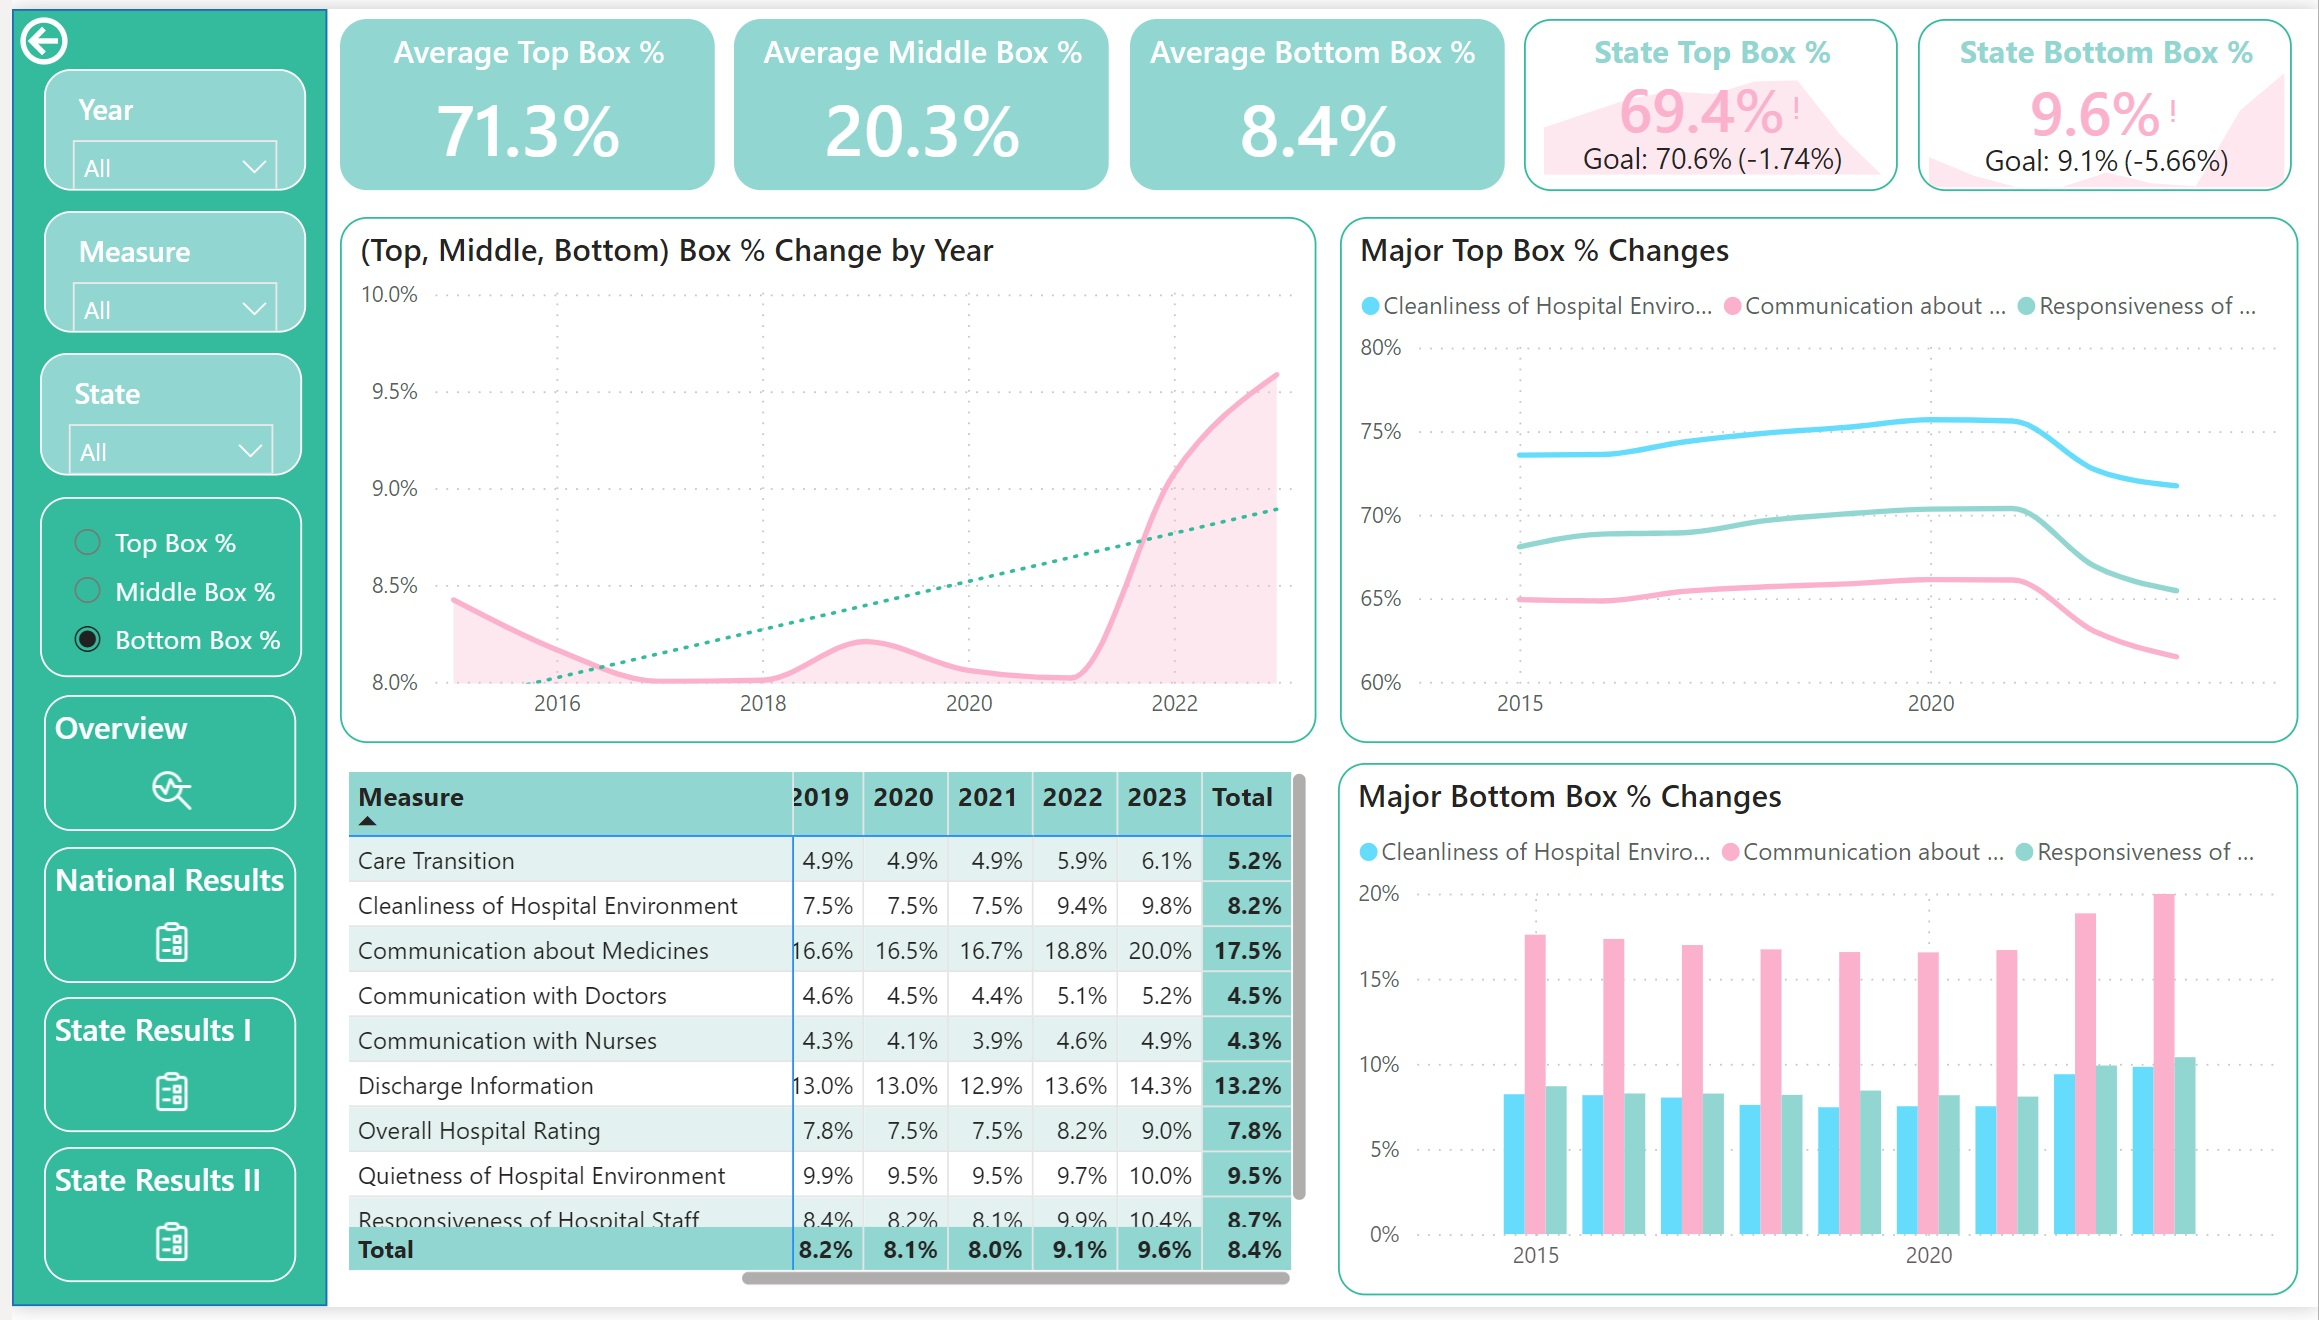

This screenshot's page, from the dashboard's own definition file:
{"tool":"powerbi","page":{"name":"State Results I","canvas":[1280,720],"ordinal":2},"visuals":[{"type":"shape","box":[0,0,175,720],"z":0},{"type":"card","title":"Average Top Box %","fields":{"Values":["Measure Table.State Top Box %"]},"box":[182.1,6,208,95],"z":1000},{"type":"card","title":"Average Middle Box %","fields":{"Values":["Measure Table.State Middle Box %"]},"box":[401.1,6,208,95],"z":2000},{"type":"actionButton","title":"Overview","box":[17.8,380.8,140,75.5],"z":2000,"group":"g1"},{"type":"card","title":"Average Bottom Box %","fields":{"Values":["Measure Table.State Bottom Box %"]},"box":[620.2,6,208,95],"z":3000},{"type":"actionButton","title":"National Results","box":[17.8,465.2,140,75.5],"z":3000,"group":"g1"},{"type":"slicer","fields":{"Values":["Reports.Year"]},"box":[17.8,33.3,145.4,67.7],"z":4000},{"type":"actionButton","title":"State Results I","box":[17.8,548.4,140,75],"z":4000,"group":"g1"},{"type":"slicer","fields":{"Values":["Survey Measures.Measure"]},"box":[17.8,112.4,145.4,67.7],"z":5000},{"type":"actionButton","title":"State Results II","box":[17.8,631.7,140,75],"z":5000,"group":"g1"},{"type":"kpi","title":"State Top Box %","fields":{"TrendLine":["Reports.Year"],"Indicator":["Measure Table.State Top Box %"],"Goal":["Measure Table.State Top Box Prev"]},"box":[839.3,6,207.6,95.5],"z":6000},{"type":"kpi","title":"State Bottom Box %","fields":{"TrendLine":["Reports.Year"],"Indicator":["Measure Table.State Bottom Box %"],"Goal":["Measure Table.State Bottom Box Prev"]},"box":[1058,6,207.6,95.5],"z":7000},{"type":"slicer","fields":{"Values":["States.State Name"]},"box":[15.5,191.5,145.4,68],"z":8000},{"type":"areaChart","title":"(Top, Middle, Bottom) Box % Change by  Year","fields":{"Y":["Measure Table.State Bottom Box %"],"Category":["Reports.Year"]},"box":[182.1,115.5,541.8,292],"z":9000},{"type":"slicer","fields":{"Values":["BOX Selector (State).BOX Selector (State)"]},"box":[15.5,270.9,145.4,100],"z":10000},{"type":"pivotTable","fields":{"Values":["Measure Table.State Bottom Box %"],"Rows":["Survey Measures.Measure"],"Columns":["Reports.Year"]},"box":[182.1,418.5,541.8,295.3],"z":11000},{"type":"lineChart","title":"Major Top Box % Changes","fields":{"Category":["Reports.Year"],"Y":["Measure Table.Cleanliness of Hospital Environment TB (State)","Measure Table.Communication about Medicines TB (State)","Measure Table.Responsiveness of Hospital Staff TB (State)"]},"box":[737.1,115.5,531.8,292],"z":12000},{"type":"clusteredColumnChart","title":"Major Bottom Box % Changes","fields":{"Category":["Reports.Year"],"Y":["Measure Table.Cleanliness of Hospital Environment BB (State)","Measure Table.Communication about Medicines BB (State)","Measure Table.Responsiveness of Hospital Staff BB (State)"]},"box":[736,418.5,532.9,295.3],"z":13000},{"type":"group","id":"g1","title":"Group 1","box":[17.8,380.8,140,325.9],"z":14000},{"type":"actionButton","box":[0,0,40,35.5],"z":15000}]}

Visuals, with their boxes in screenshot pixels (x1, y1, x2, y2), scaled from the page's 1280x720 canvas onto the 2319x1320 screenshot:
shape: <bbox>0, 0, 317, 1319</bbox>
"Average Top Box %" card: <bbox>330, 11, 707, 185</bbox>
"Average Middle Box %" card: <bbox>727, 11, 1104, 185</bbox>
"Overview" actionButton: <bbox>32, 698, 286, 837</bbox>
"Average Bottom Box %" card: <bbox>1124, 11, 1500, 185</bbox>
"National Results" actionButton: <bbox>32, 853, 286, 991</bbox>
slicer - Reports.Year: <bbox>32, 61, 296, 185</bbox>
"State Results I" actionButton: <bbox>32, 1005, 286, 1143</bbox>
slicer - Survey Measures.Measure: <bbox>32, 206, 296, 330</bbox>
"State Results II" actionButton: <bbox>32, 1158, 286, 1296</bbox>
"State Top Box %" kpi: <bbox>1521, 11, 1897, 186</bbox>
"State Bottom Box %" kpi: <bbox>1917, 11, 2293, 186</bbox>
slicer - States.State Name: <bbox>28, 351, 292, 476</bbox>
"(Top, Middle, Bottom) Box % Change by  Year" areaChart: <bbox>330, 212, 1312, 747</bbox>
slicer - BOX Selector (State).BOX Selector (State): <bbox>28, 497, 292, 680</bbox>
pivotTable - Measure Table.State Bottom Box % x Survey Measures.Measure: <bbox>330, 767, 1312, 1309</bbox>
"Major Top Box % Changes" lineChart: <bbox>1335, 212, 2299, 747</bbox>
"Major Bottom Box % Changes" clusteredColumnChart: <bbox>1333, 767, 2299, 1309</bbox>
"Group 1" group: <bbox>32, 698, 286, 1296</bbox>
actionButton: <bbox>0, 0, 72, 65</bbox>
